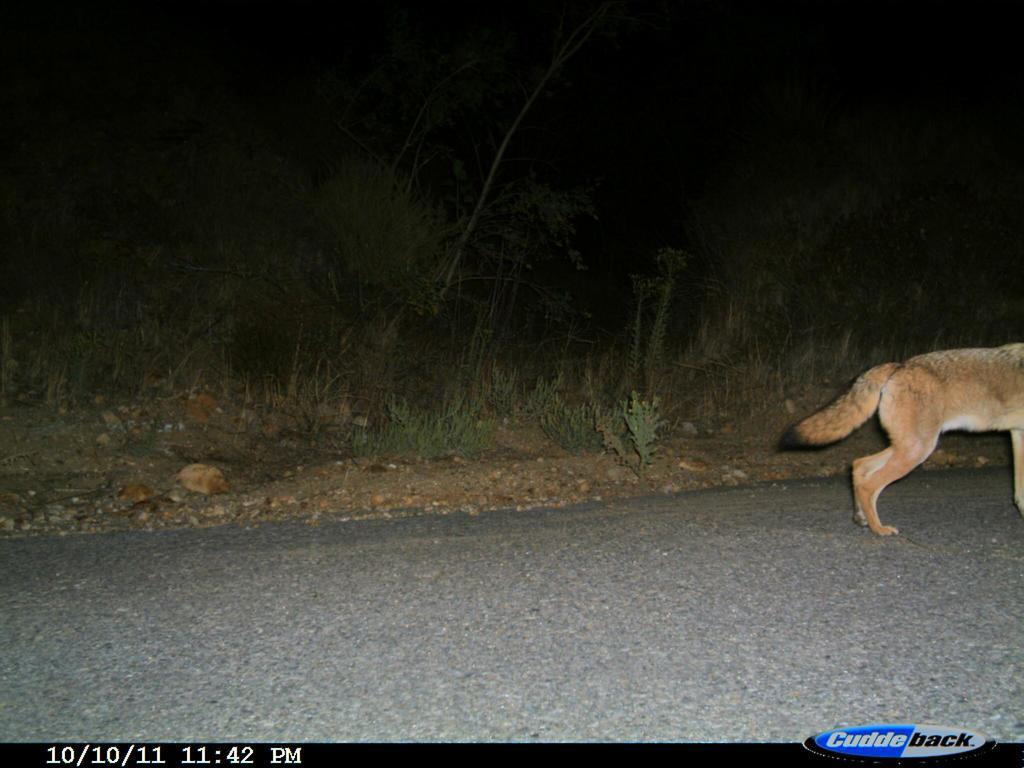coyote: (772, 333, 1023, 548)
